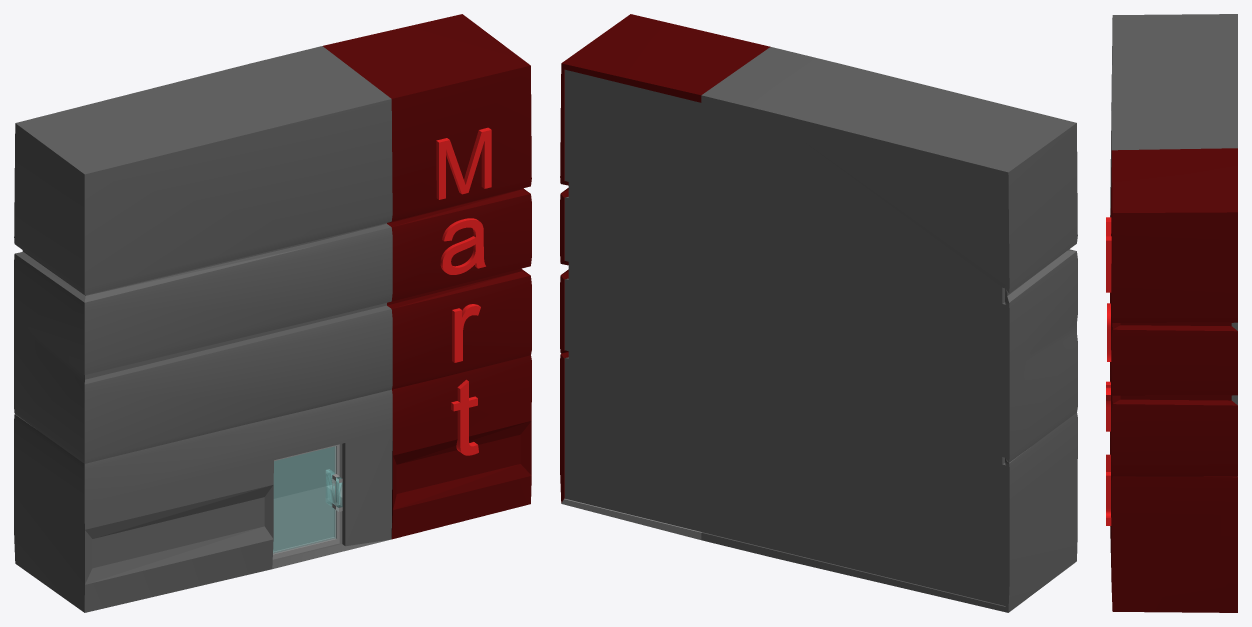
The model's file is mart@out_close_s.FBX.
3 renders of one model, left to right at view 1: azimuth 30°, elevation 25°; view 2: azimuth 150°, elevation 25°; view 3: azimuth 270°, elevation 25°, orthographic. The views are drawn at different scales.
Visible parts, largest first — view 1: Box001, Object002, Object003; view 2: Object003, Box001; view 3: Box001.
Boxes of the visible parts, left/top/right/bottom form: Box001: left=14, top=14, right=531, bottom=612; Object002: left=272, top=444, right=342, bottom=559; Object003: left=22, top=250, right=342, bottom=498; Object003: left=564, top=69, right=1005, bottom=605; Box001: left=560, top=14, right=1077, bottom=612; Box001: left=1106, top=14, right=1237, bottom=612.
Bounding box in the file's own units: 81.38 × 76.99 × 22.74.
